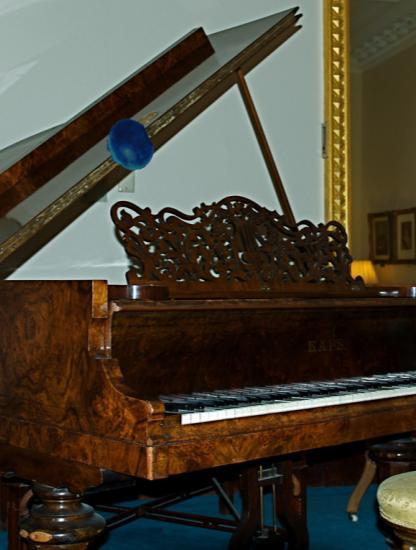Huckleberry: (102, 119, 156, 173)
